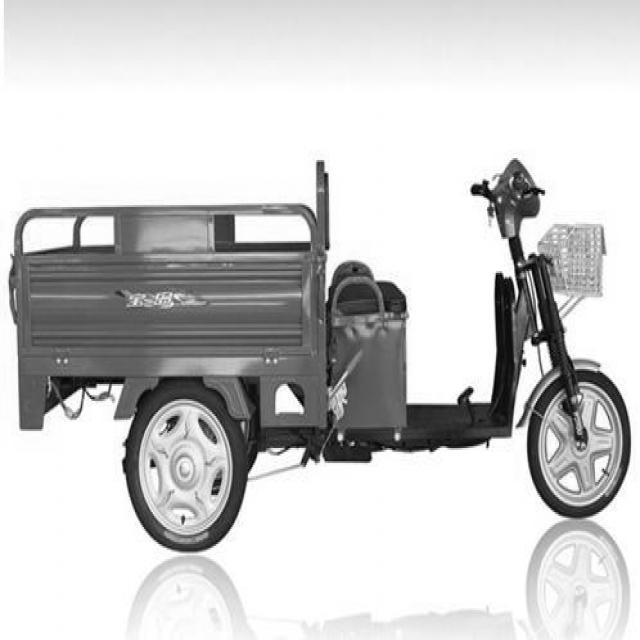tricycle: (6, 152, 634, 554)
